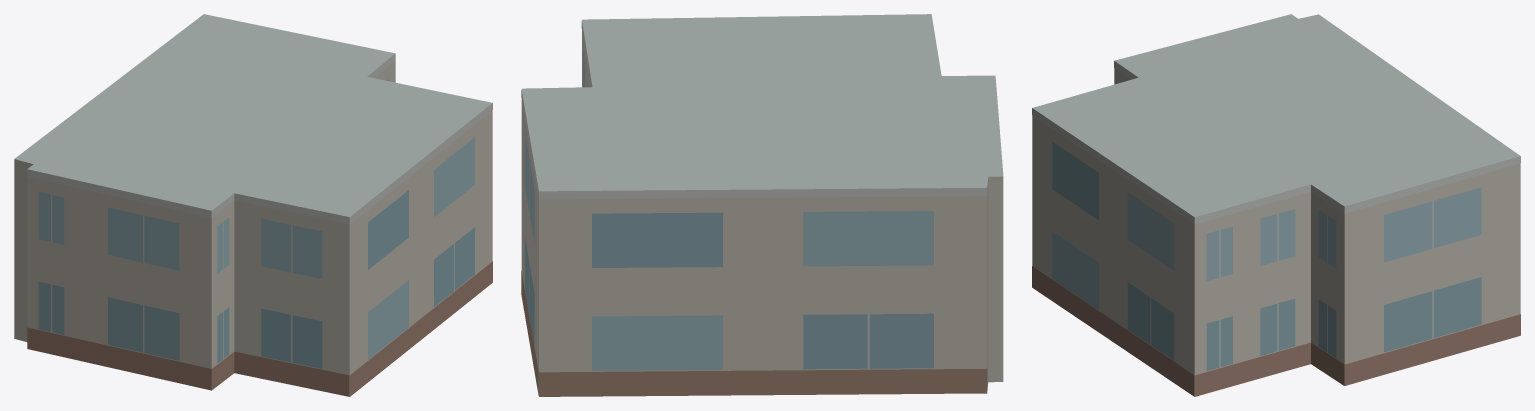
The model's file is survey-upis-32584314.glb.
The picture shows the model from 3 angles, left to right: view 1: azimuth 30°, elevation 25°; view 2: azimuth 150°, elevation 25°; view 3: azimuth 270°, elevation 25°; orthographic projection. The views are drawn at different scales.
Parts seen in each view (by area): view 1: survey-upis-32584314.tmp; view 2: survey-upis-32584314.tmp; view 3: survey-upis-32584314.tmp.
Part boxes in pixels (box(x1,y1,x2,y2)): survey-upis-32584314.tmp: box(14, 14, 492, 396); survey-upis-32584314.tmp: box(521, 14, 1003, 396); survey-upis-32584314.tmp: box(1032, 14, 1520, 396).
Bounding box in the file's own units: 14.82 × 6.1 × 15.06.
